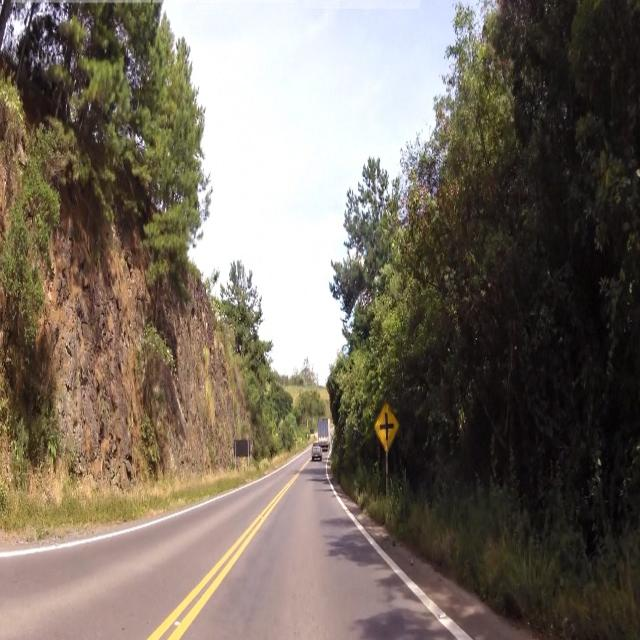A-6: (374, 397, 400, 452)
